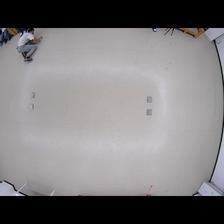fall: (15, 28, 44, 63)
